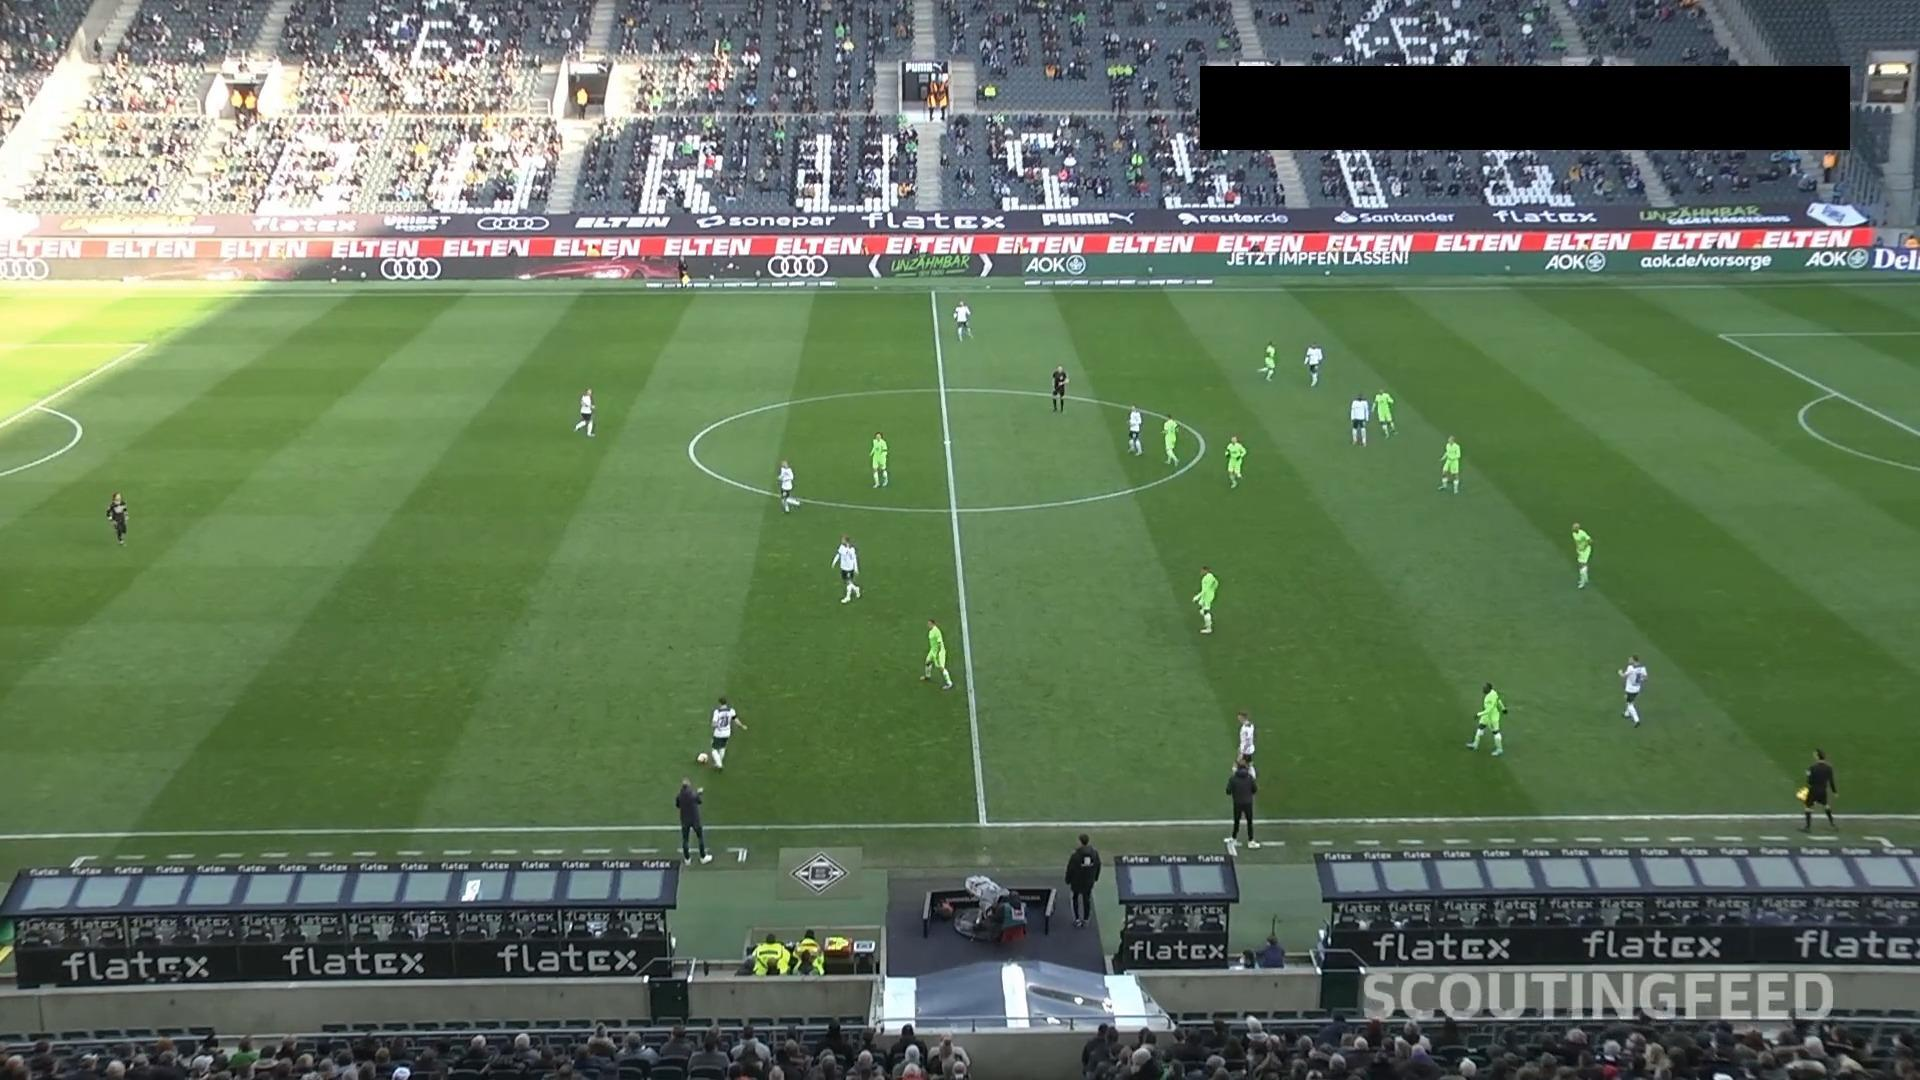ball: (695, 752, 709, 766)
